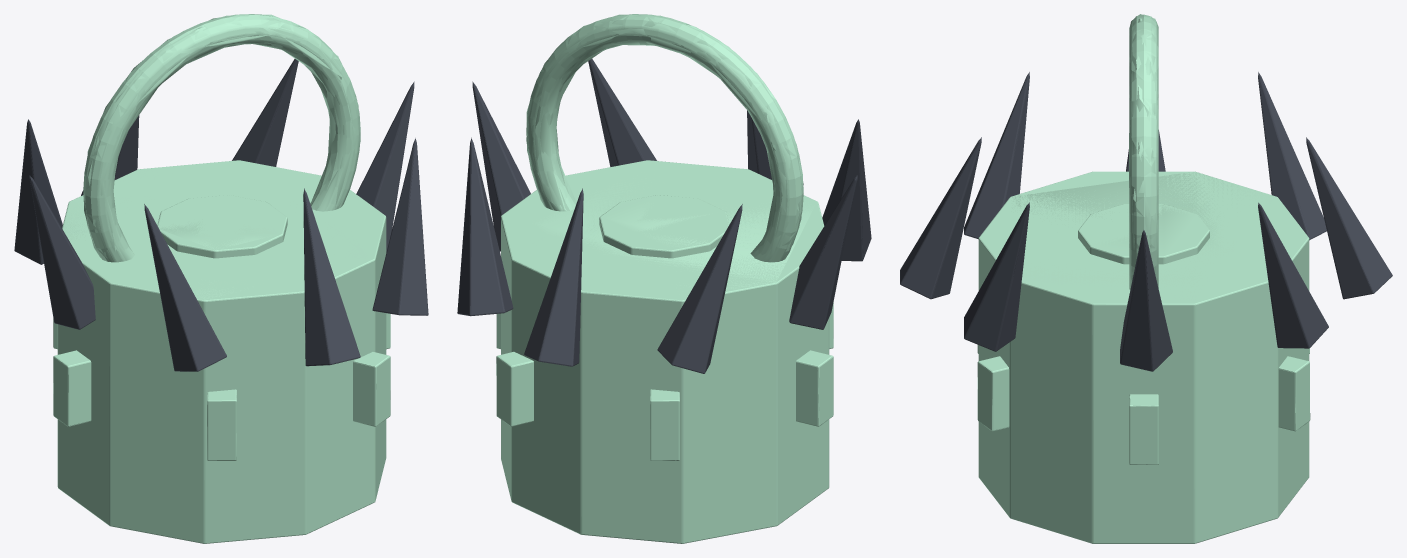
File: SM_Boss_Bergbahn.fbx
The picture shows the model from 3 angles, left to right: view 1: azimuth 30°, elevation 25°; view 2: azimuth 150°, elevation 25°; view 3: azimuth 270°, elevation 25°; orthographic projection.
Parts seen in each view (by area): view 1: LOD0_SM_Boss_Bergbahn, LOD1_SM_Boss_Bergbahn, LOD3_SM_Boss_Bergbahn, LOD2_SM_Boss_Bergbahn; view 2: LOD0_SM_Boss_Bergbahn, LOD1_SM_Boss_Bergbahn, LOD3_SM_Boss_Bergbahn, LOD2_SM_Boss_Bergbahn; view 3: LOD0_SM_Boss_Bergbahn, LOD1_SM_Boss_Bergbahn, LOD3_SM_Boss_Bergbahn, LOD2_SM_Boss_Bergbahn.
Part boxes in pixels (x1=…): LOD0_SM_Boss_Bergbahn: x1=14, y1=14, x2=428, y2=543; LOD1_SM_Boss_Bergbahn: x1=16, y1=14, x2=428, y2=543; LOD3_SM_Boss_Bergbahn: x1=28, y1=14, x2=415, y2=262; LOD2_SM_Boss_Bergbahn: x1=21, y1=14, x2=375, y2=543; LOD0_SM_Boss_Bergbahn: x1=457, y1=14, x2=871, y2=543; LOD1_SM_Boss_Bergbahn: x1=457, y1=14, x2=863, y2=543; LOD3_SM_Boss_Bergbahn: x1=471, y1=14, x2=858, y2=261; LOD2_SM_Boss_Bergbahn: x1=470, y1=15, x2=849, y2=543; LOD0_SM_Boss_Bergbahn: x1=900, y1=15, x2=1392, y2=543; LOD1_SM_Boss_Bergbahn: x1=900, y1=14, x2=1391, y2=543; LOD3_SM_Boss_Bergbahn: x1=981, y1=14, x2=1306, y2=289; LOD2_SM_Boss_Bergbahn: x1=930, y1=14, x2=1308, y2=543.
Size of the model in its own units: 3.28 by 3.76 by 3.68.
